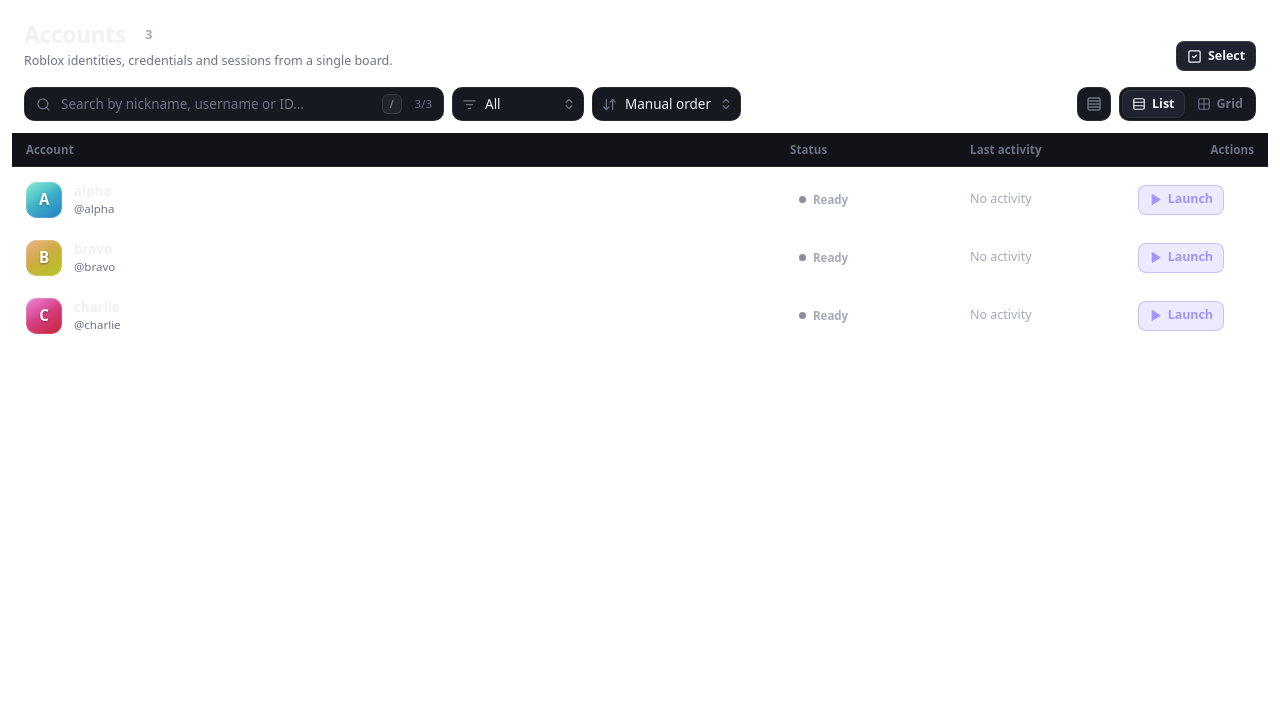
Test: Accounts selection mode + bulk action bar (Req 10.1, 10.2, 10.3, 10.5) › enters selection mode, toggling a card reflects its selected state (10.1)
Click the button "Select".
click(1216, 56)  # box top-left (1176, 41), bottom-right (1256, 71)
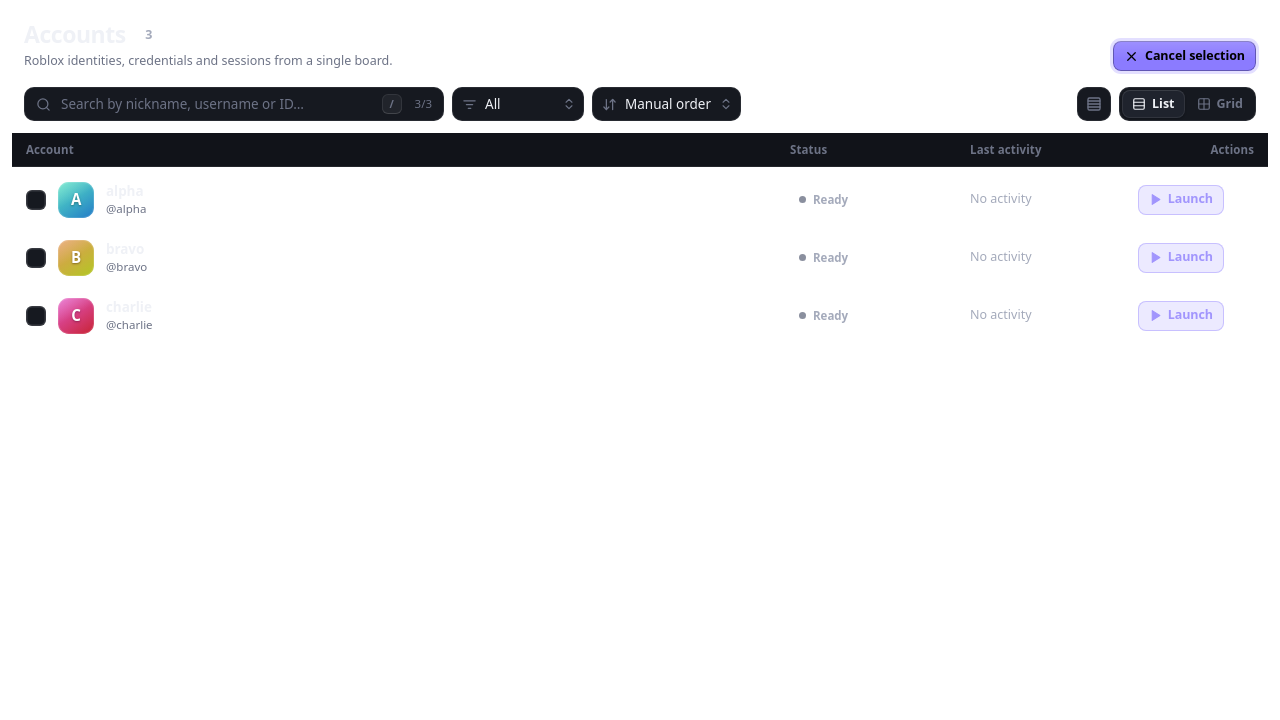
Now the number of checkboxes is 3
Click the checkbox named "Select" in the row of "@alpha".
click(36, 200)  # box top-left (26, 190), bottom-right (46, 210)
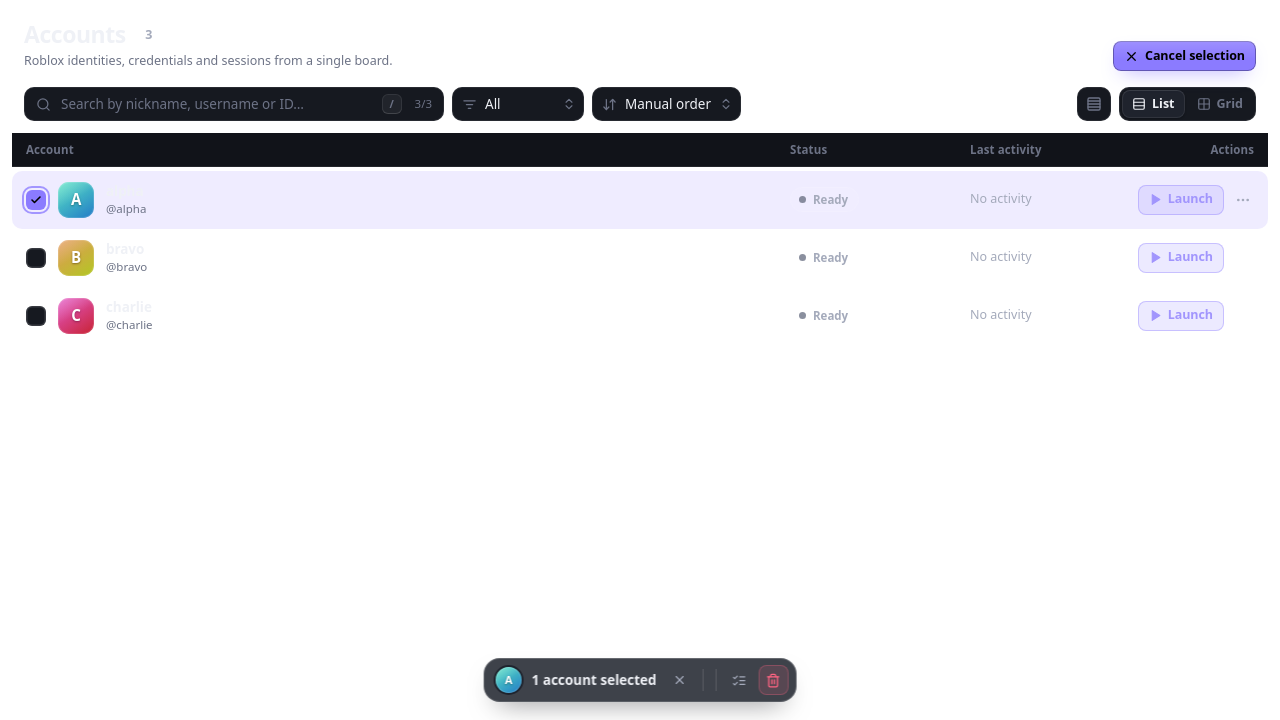
Now the checkbox named "Deselect" is checked
// Toggling the same control again clears it.
Click the checkbox named "Deselect".
click(36, 200)  # box top-left (26, 190), bottom-right (46, 210)
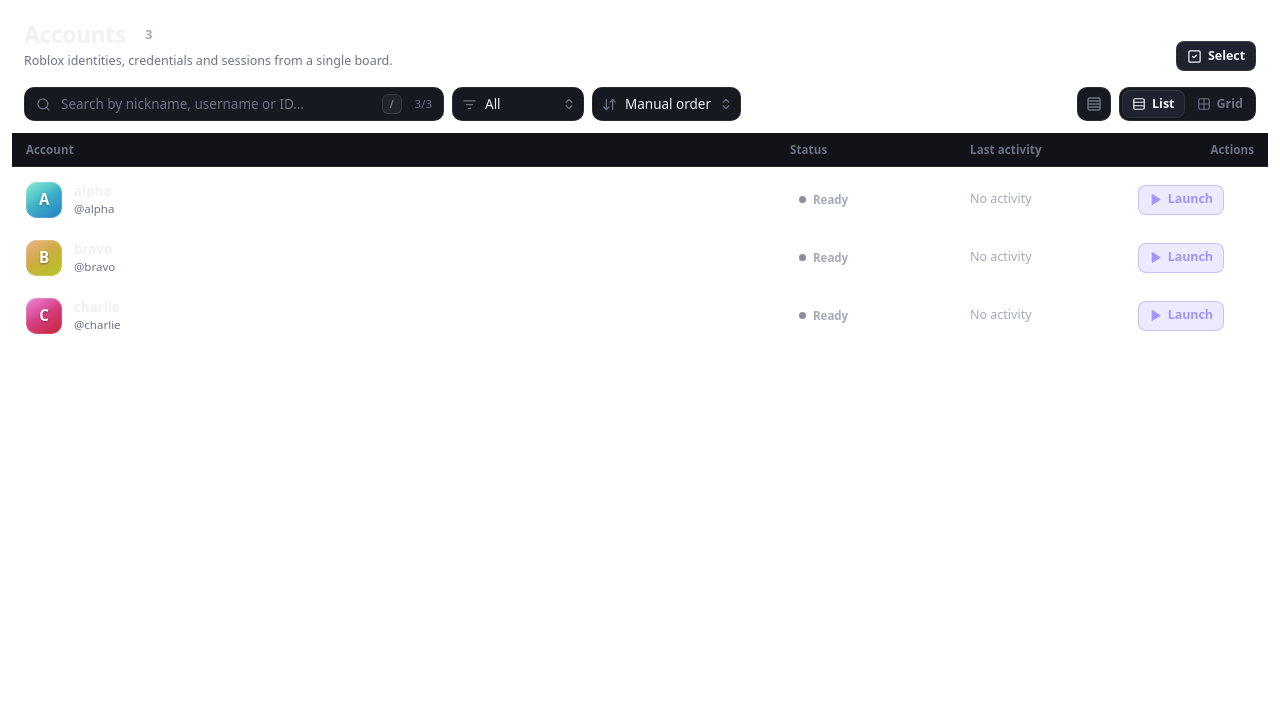
Now no checkboxes are shown
